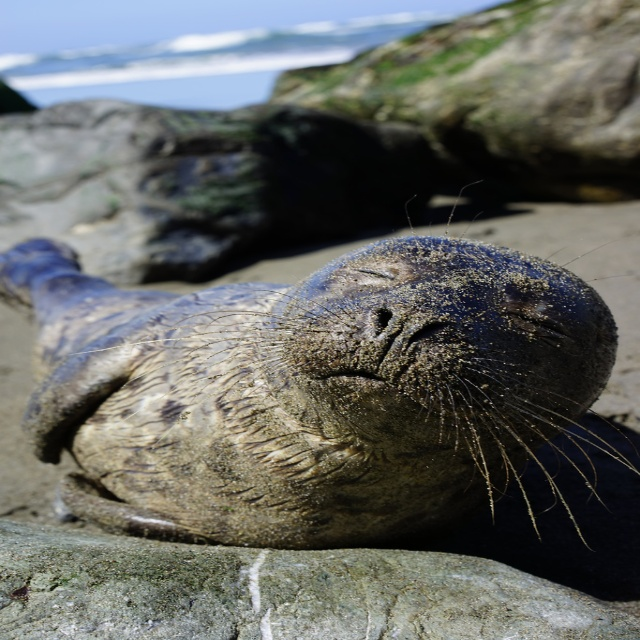Harbor seal: (0, 181, 639, 589)
